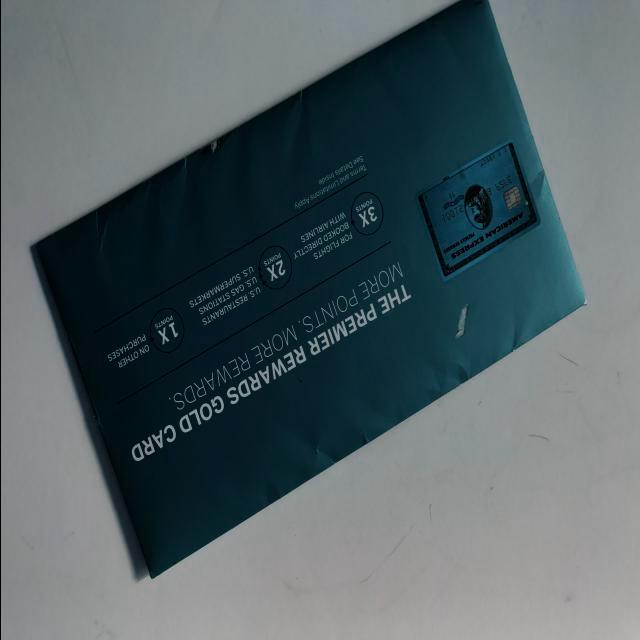paper: (25, 0, 599, 585)
